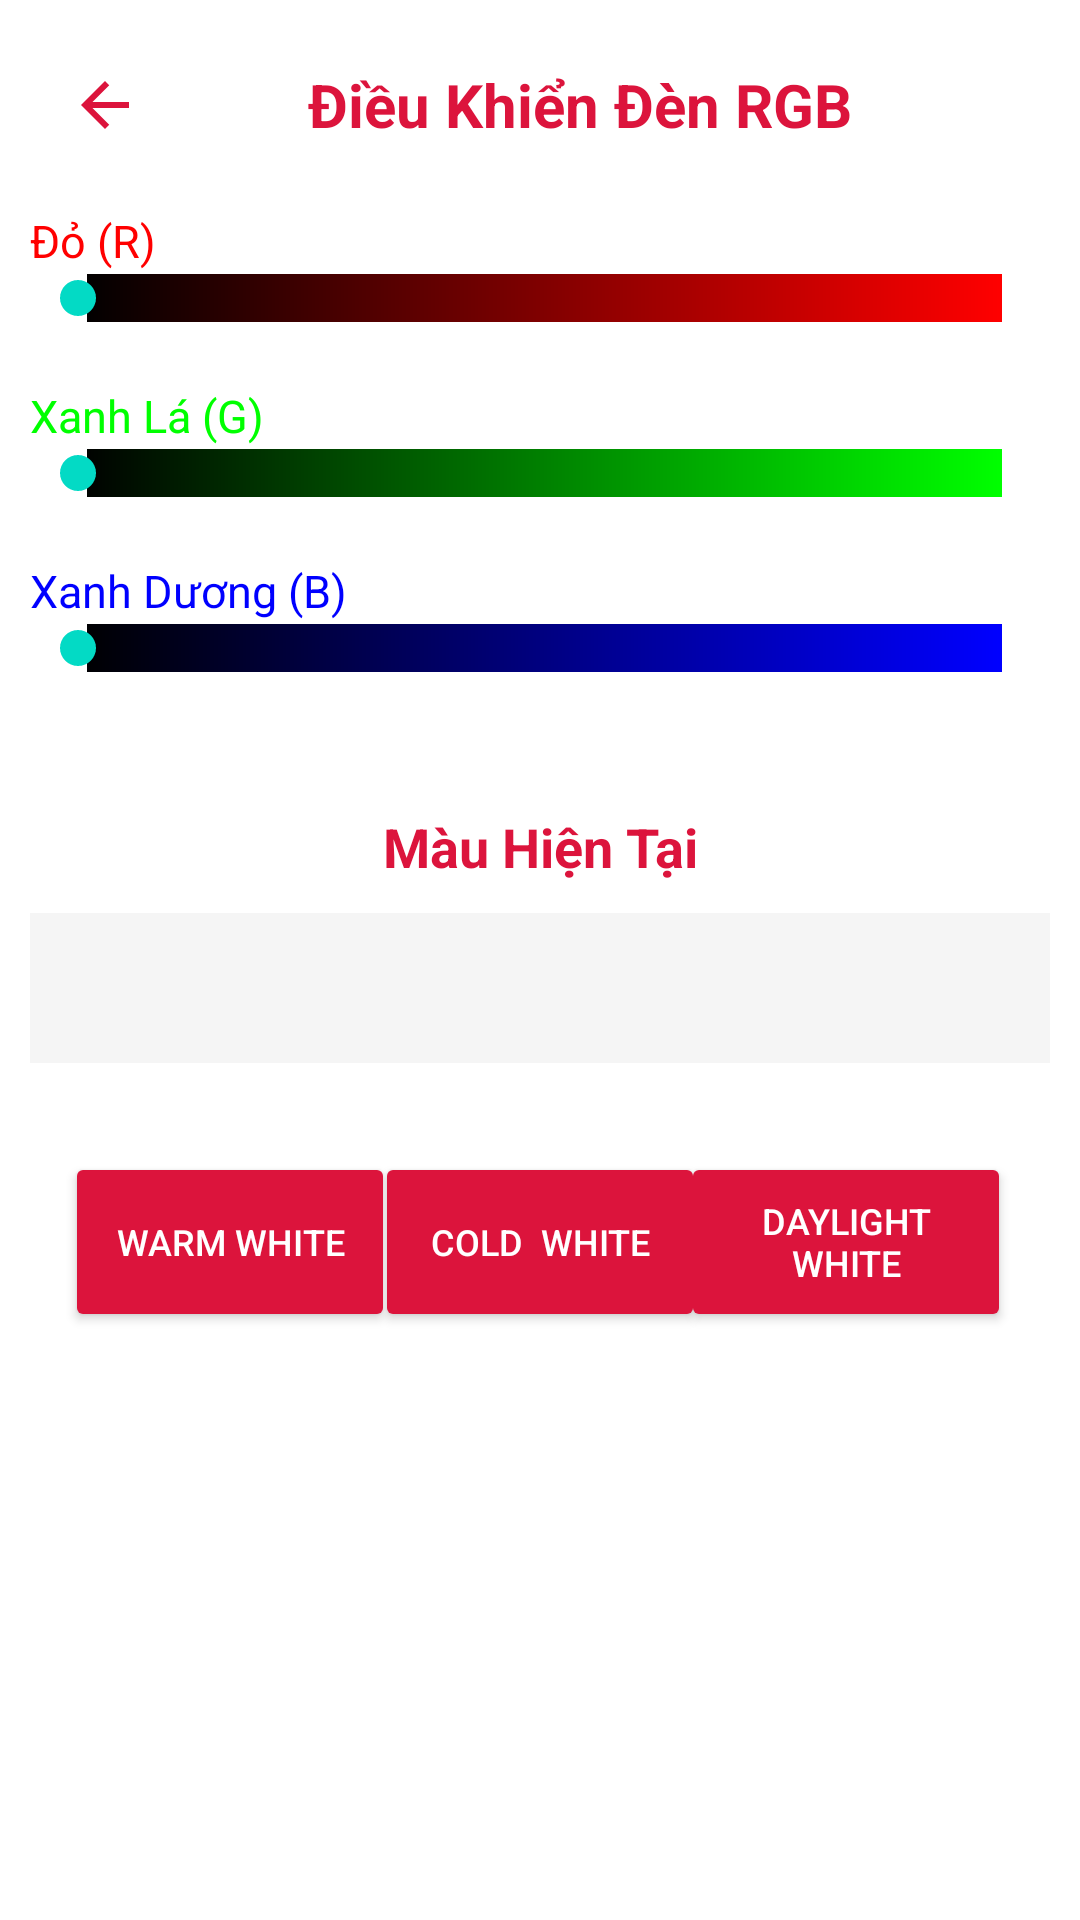

Icons on this 1080×1920 Android screen, each with its box as (x1, y1, x2, y2):
Quay lại: (81, 81, 129, 129)
